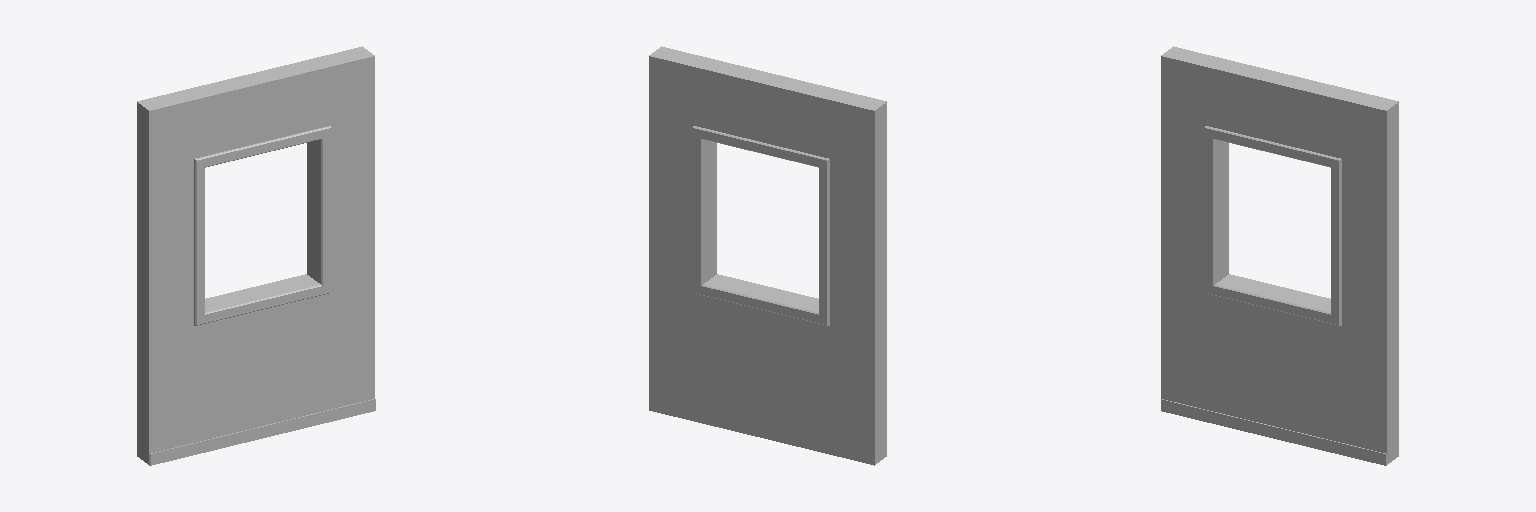
The model's file is Muro_finestra_angolo.obj.
The picture shows the model from 3 angles: view 1: azimuth 30°, elevation 25°; view 2: azimuth 150°, elevation 25°; view 3: azimuth 330°, elevation 25°; orthographic projection.
Visible parts, largest first — view 1: Muro_finestra_Angolo; view 2: Muro_finestra_Angolo; view 3: Muro_finestra_Angolo.
Boxes of the visible parts, box(x1,y1,x2,y2) form: Muro_finestra_Angolo: box(137, 46, 375, 465); Muro_finestra_Angolo: box(649, 46, 886, 465); Muro_finestra_Angolo: box(1161, 46, 1398, 465).
Bounding box in the file's own units: 2 × 3 × 0.242.